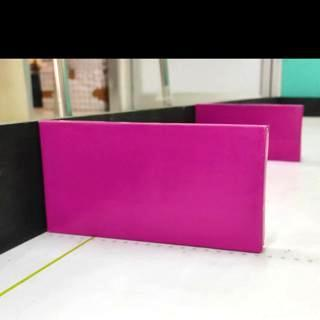xparking: (42, 120, 267, 252), (271, 106, 300, 160)
